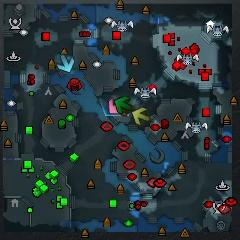x1: (108, 98, 120, 115)
x2: (132, 107, 151, 124)
x3: (58, 55, 74, 72)
x4: (115, 96, 131, 113)
x5: (121, 105, 135, 117)
